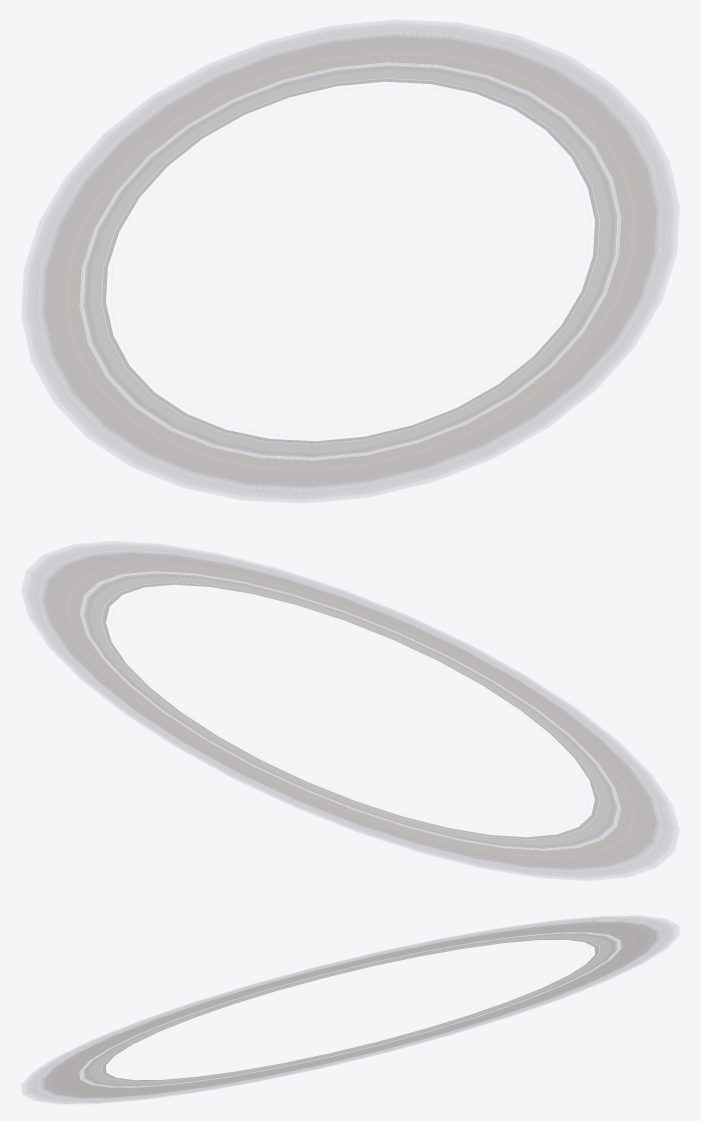
The model's file is saturnring.glb.
3 renders of one model, top to bottom at view 1: azimuth 30°, elevation 25°; view 2: azimuth 150°, elevation 25°; view 3: azimuth 270°, elevation 25°, orthographic. The views are drawn at different scales.
Visible parts, largest first — view 1: saturn_ring; view 2: saturn_ring; view 3: saturn_ring.
Boxes of the visible parts, box(x1,y1,x2,y2) form: saturn_ring: box(26, 23, 674, 499); saturn_ring: box(26, 544, 674, 877); saturn_ring: box(26, 916, 674, 1103).
Size of the model in its own units: 9.32 by 3.56 by 8.98.
1 material, 1 textured.
